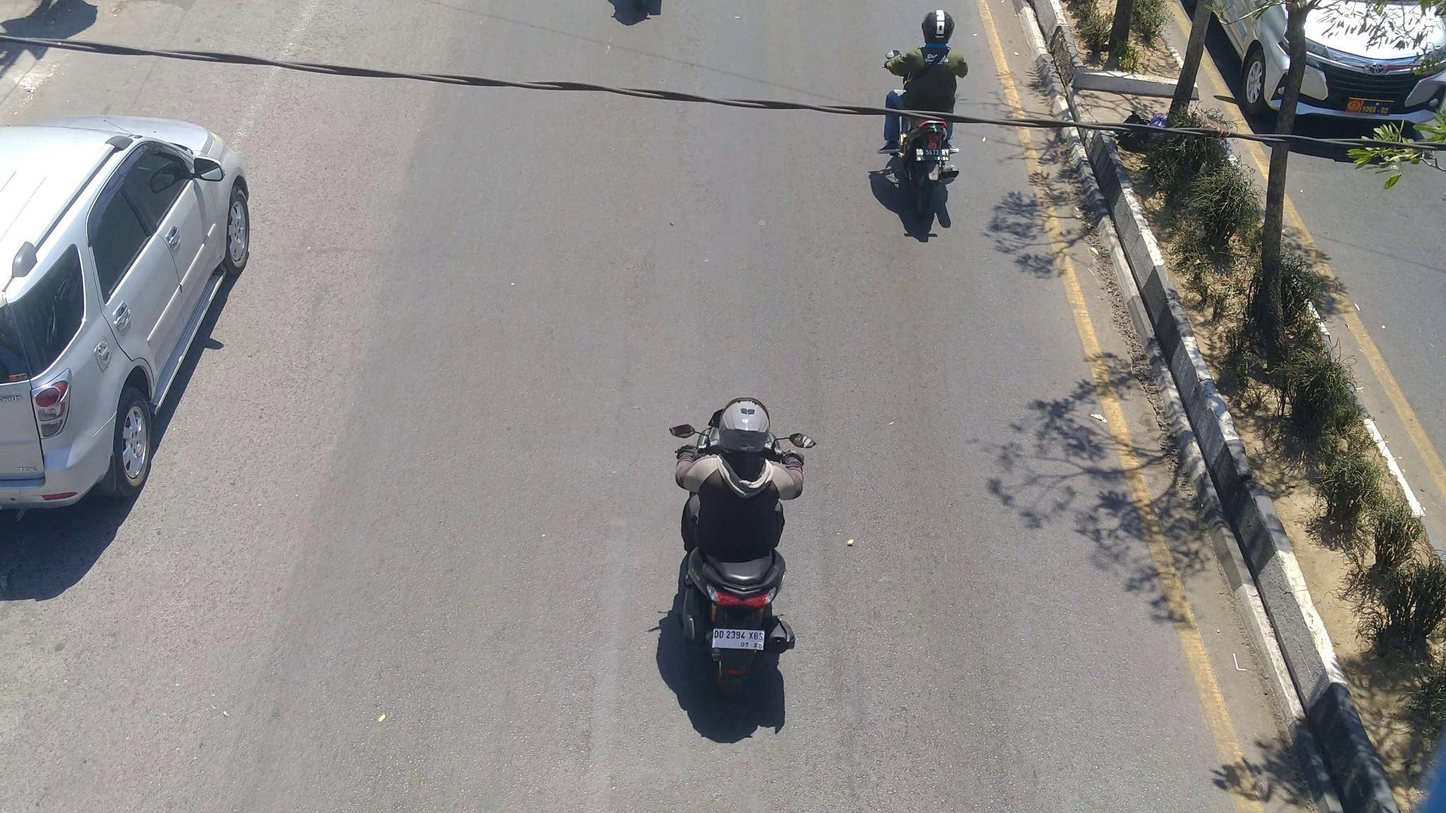Helmet: (709, 388, 775, 465), (915, 8, 959, 52)
bike: (668, 416, 817, 691), (882, 44, 972, 237)
number-plate: (706, 622, 769, 659), (915, 146, 947, 163)
rider: (670, 393, 807, 577), (885, 8, 969, 158)
